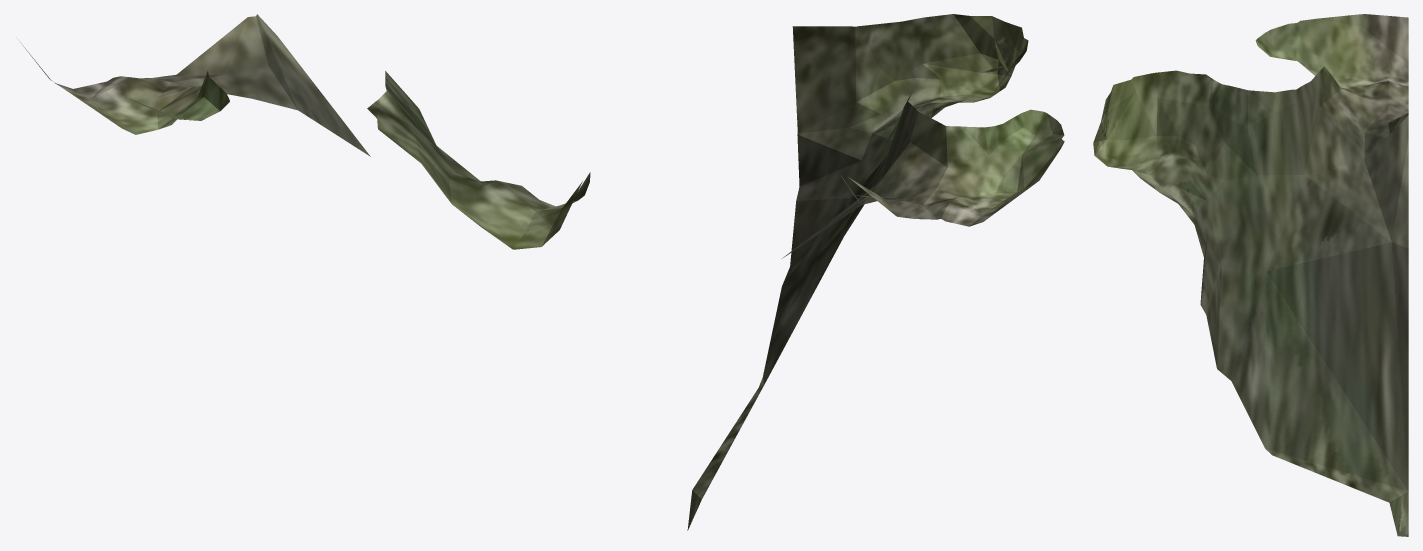
The picture shows the model from 3 angles, left to right: view 1: azimuth 30°, elevation 25°; view 2: azimuth 150°, elevation 25°; view 3: azimuth 270°, elevation 25°; orthographic projection. The views are drawn at different scales.
Bounding box in the file's own units: 2.23 × 2.71 × 2.05.
2 materials, 2 textured.
